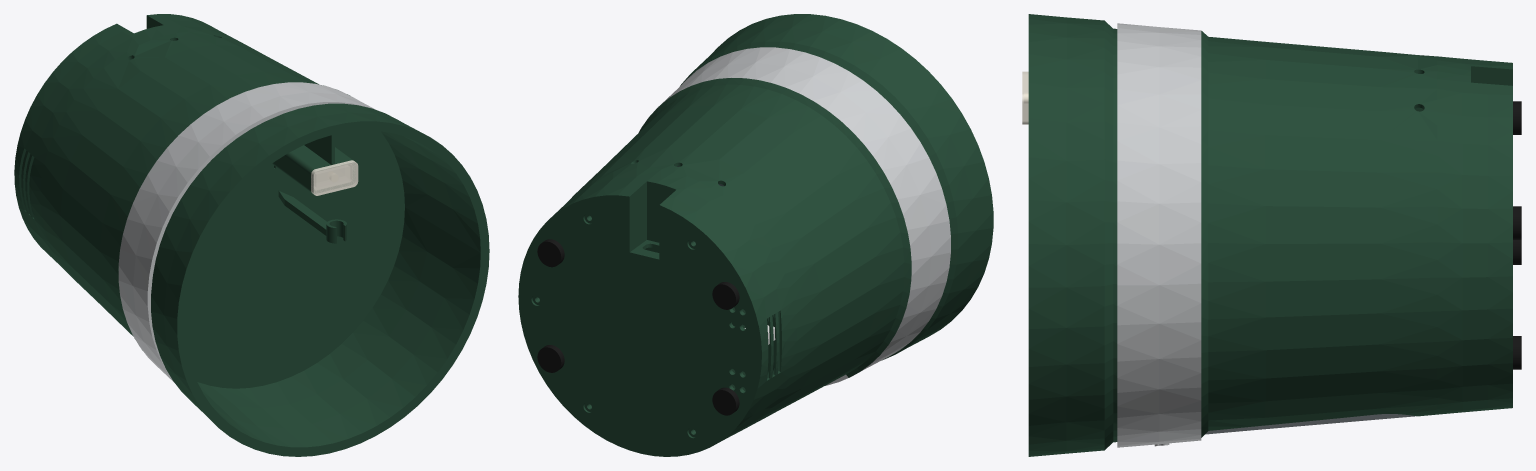
File: greengenius-v3.glb
The picture shows the model from 3 angles, left to right: view 1: azimuth 30°, elevation 25°; view 2: azimuth 150°, elevation 25°; view 3: azimuth 270°, elevation 25°; orthographic projection. The views are drawn at different scales.
Visible parts, largest first — view 1: pot__pot, shell__shell, band__band, base__base, pot__cap, pot__stake; view 2: base__base, shell__shell, pot__pot, band__band, base__foot_3, base__foot_4, base__foot_1, base__foot_2; view 3: shell__shell, pot__pot, band__band, base__base, drawer__drawer.
Part boxes in pixels (bbox=[...]): pot__pot: bbox=[151, 103, 489, 456]; shell__shell: bbox=[40, 31, 349, 350]; band__band: bbox=[118, 82, 375, 382]; base__base: bbox=[14, 14, 237, 270]; pot__cap: bbox=[311, 160, 358, 195]; pot__stake: bbox=[278, 191, 346, 243]; base__base: bbox=[518, 168, 797, 456]; shell__shell: bbox=[575, 78, 911, 426]; pot__pot: bbox=[680, 14, 993, 360]; band__band: bbox=[639, 47, 950, 385]; base__foot_3: bbox=[712, 387, 739, 415]; base__foot_4: bbox=[537, 345, 564, 372]; base__foot_1: bbox=[537, 239, 564, 267]; base__foot_2: bbox=[712, 282, 739, 309]; shell__shell: bbox=[1201, 31, 1437, 437]; pot__pot: bbox=[1028, 14, 1117, 456]; band__band: bbox=[1117, 23, 1201, 447]; base__base: bbox=[1437, 56, 1512, 414]; drawer__drawer: bbox=[1205, 414, 1415, 434].
Size of the model in its own units: 210 by 210 by 237.
